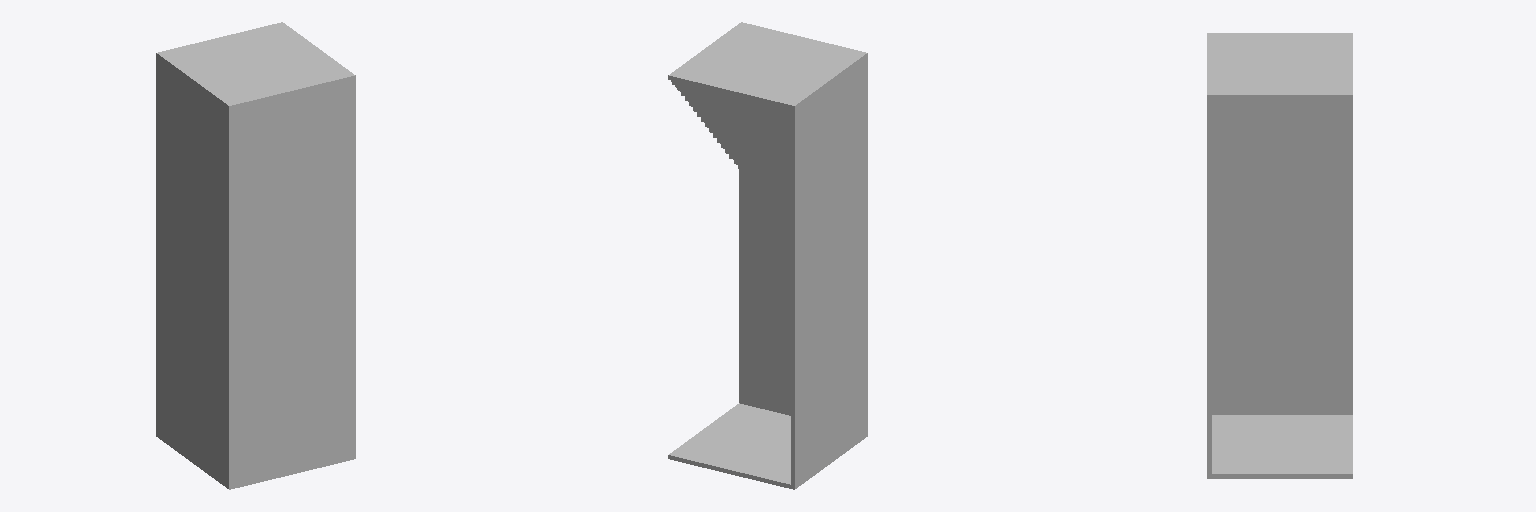
The model's file is WallCorner.obj.
3 renders of one model, left to right at view 1: azimuth 30°, elevation 25°; view 2: azimuth 150°, elevation 25°; view 3: azimuth 270°, elevation 25°, orthographic.
Parts seen in each view (by area): view 1: object 1; view 2: object 1; view 3: object 1.
Part boxes in pixels (x1,y1,x2,y2): object 1: (156, 22, 355, 489); object 1: (668, 22, 867, 489); object 1: (1207, 33, 1352, 478).
Size of the model in its own units: 3.1 by 9 by 3.1.